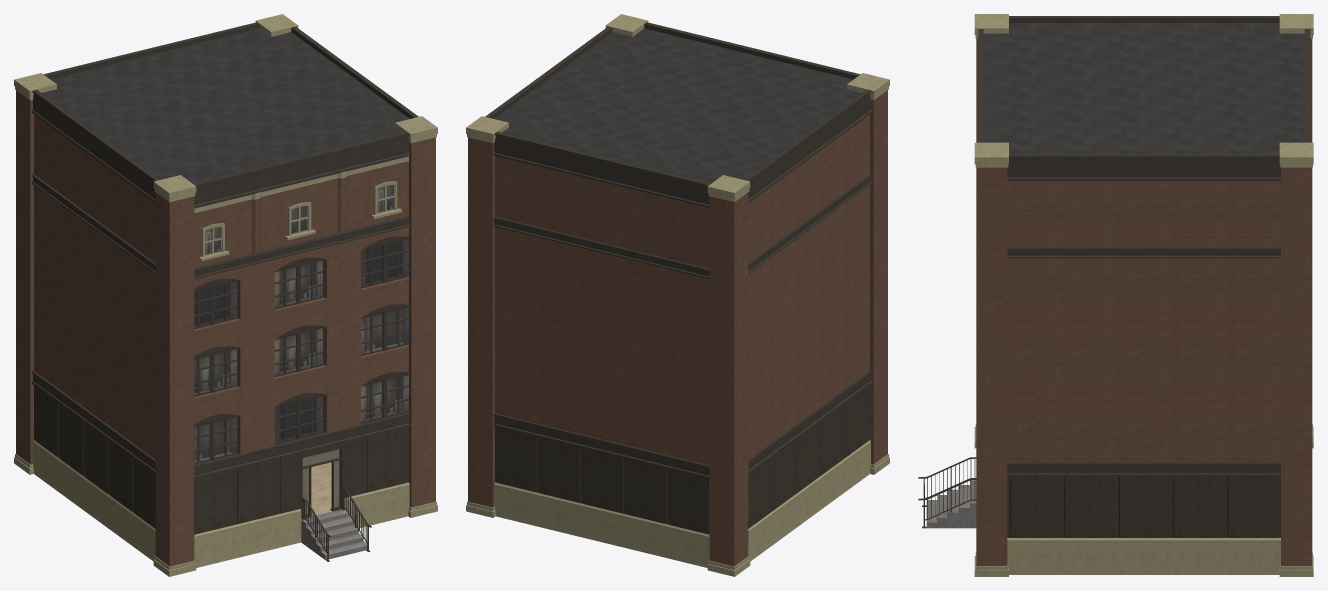
File: Building_Small_1.gltf
The picture shows the model from 3 angles, left to right: view 1: azimuth 30°, elevation 25°; view 2: azimuth 150°, elevation 25°; view 3: azimuth 270°, elevation 25°; orthographic projection. The views are drawn at different scales.
Visible parts, largest first — view 1: Building_Small_1; view 2: Building_Small_1; view 3: Building_Small_1.
Part boxes in pixels (x1,y1,x2,y2): Building_Small_1: [14, 14, 437, 576]; Building_Small_1: [466, 14, 889, 576]; Building_Small_1: [918, 14, 1313, 576].
Bounding box in the file's own units: 12.46 × 17.03 × 14.54.
Materials: 13 (12 with a texture image).
